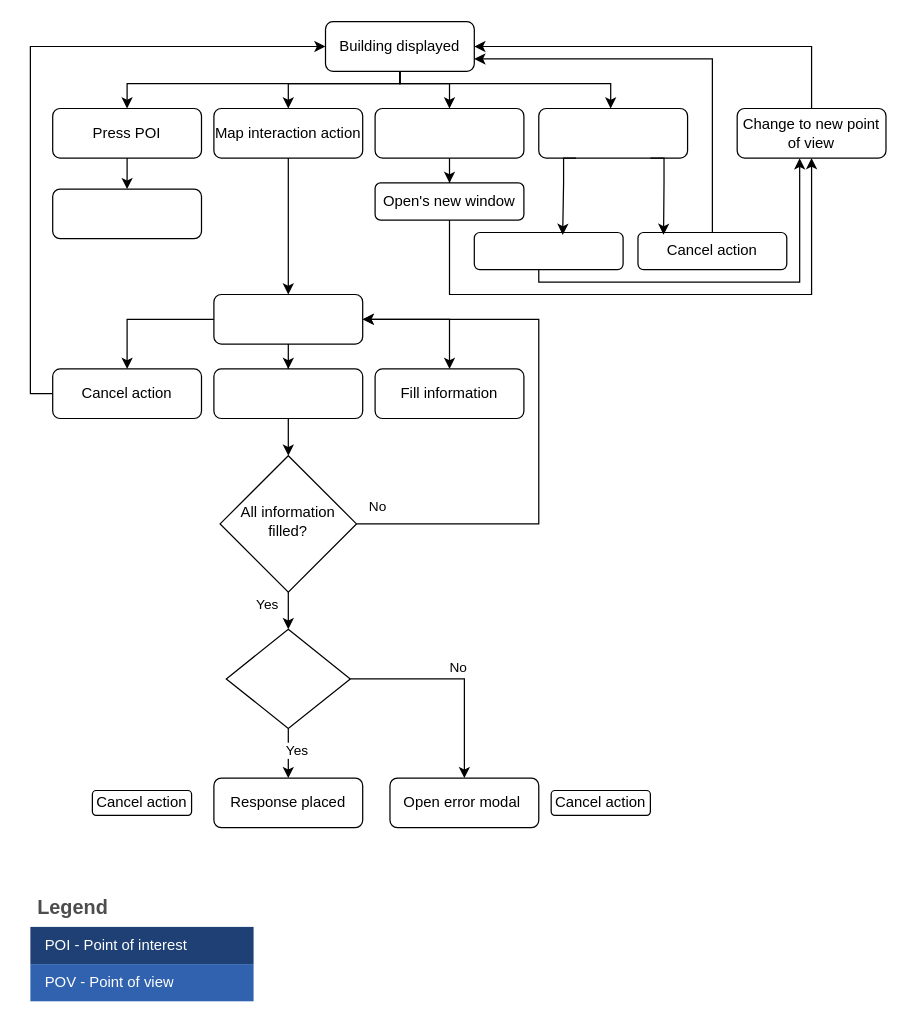
This 908x1023 diagram has some shape labels left out. Here are the shapes that lost their labels. From the top down, the centre of each, then its label:
point (449, 132): POI action
point (613, 132): All responses action
point (126, 213): Navigate new window with POI
point (548, 250): Reaction action
point (288, 318): Response form displayed
point (288, 393): Submit action
point (287, 678): Response valid?
